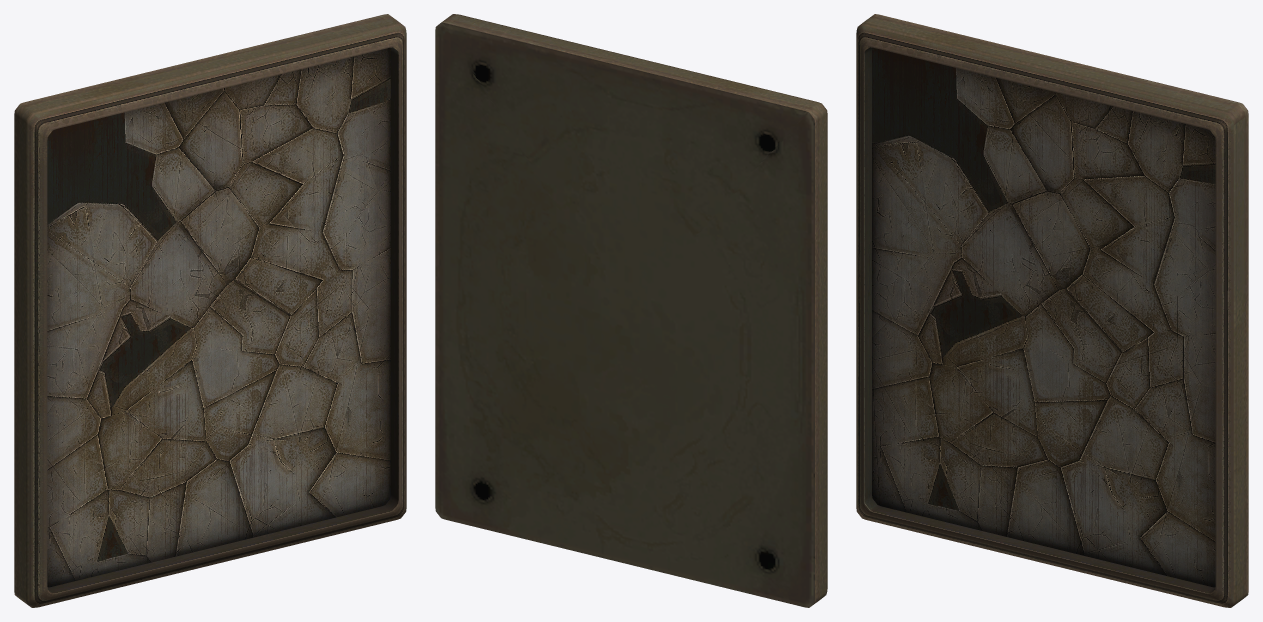
Rendered from mirror_wall.DAE.
3 renders of one model, left to right at view 1: azimuth 30°, elevation 25°; view 2: azimuth 150°, elevation 25°; view 3: azimuth 330°, elevation 25°, orthographic.
Visible parts, largest first — view 1: mesh_mirror; view 2: mesh_mirror; view 3: mesh_mirror.
Boxes of the visible parts, x1,y1,x2,y2 form: mesh_mirror: (14,14,406,607); mesh_mirror: (435,14,827,607); mesh_mirror: (856,14,1248,607).
Size of the model in its own units: 0.8128 by 1.02 by 0.0705.
